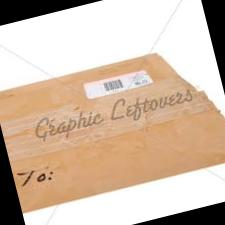Kertas: (0, 54, 224, 212)
